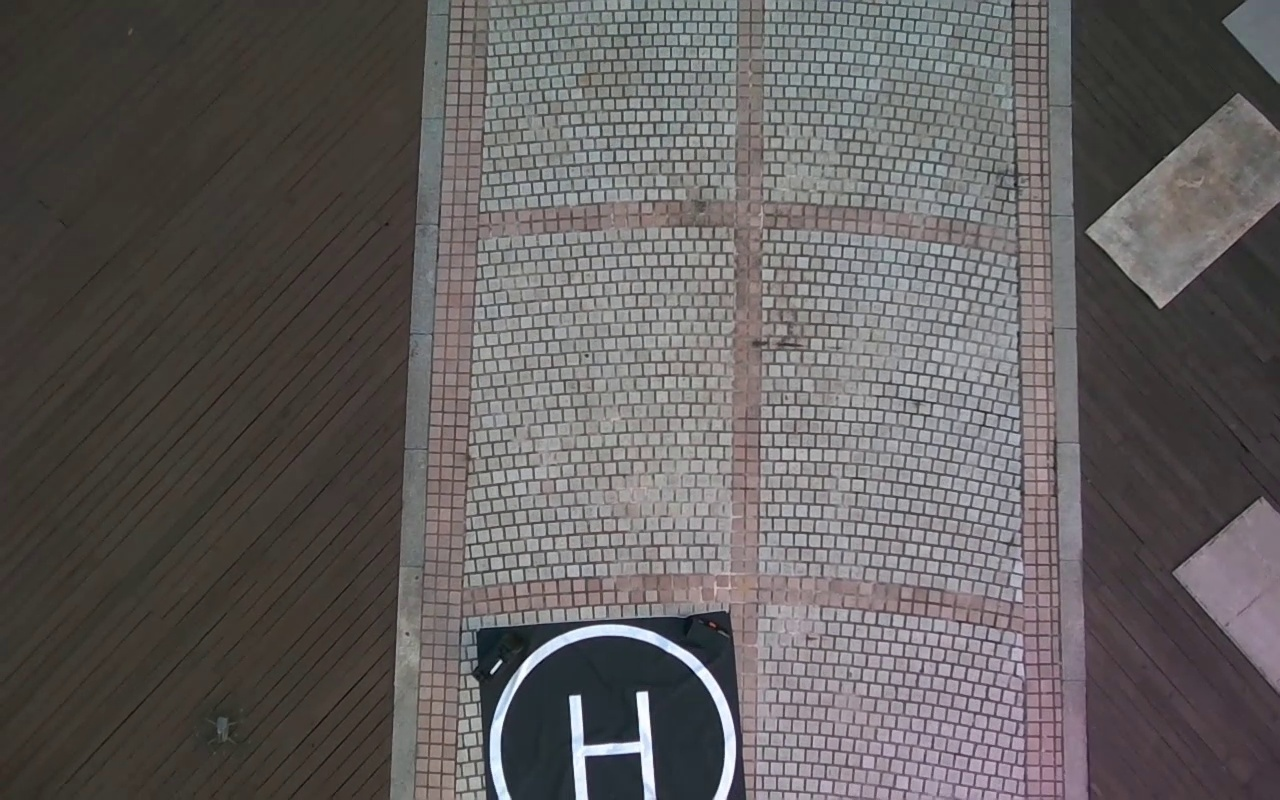H: (565, 690, 658, 800)
